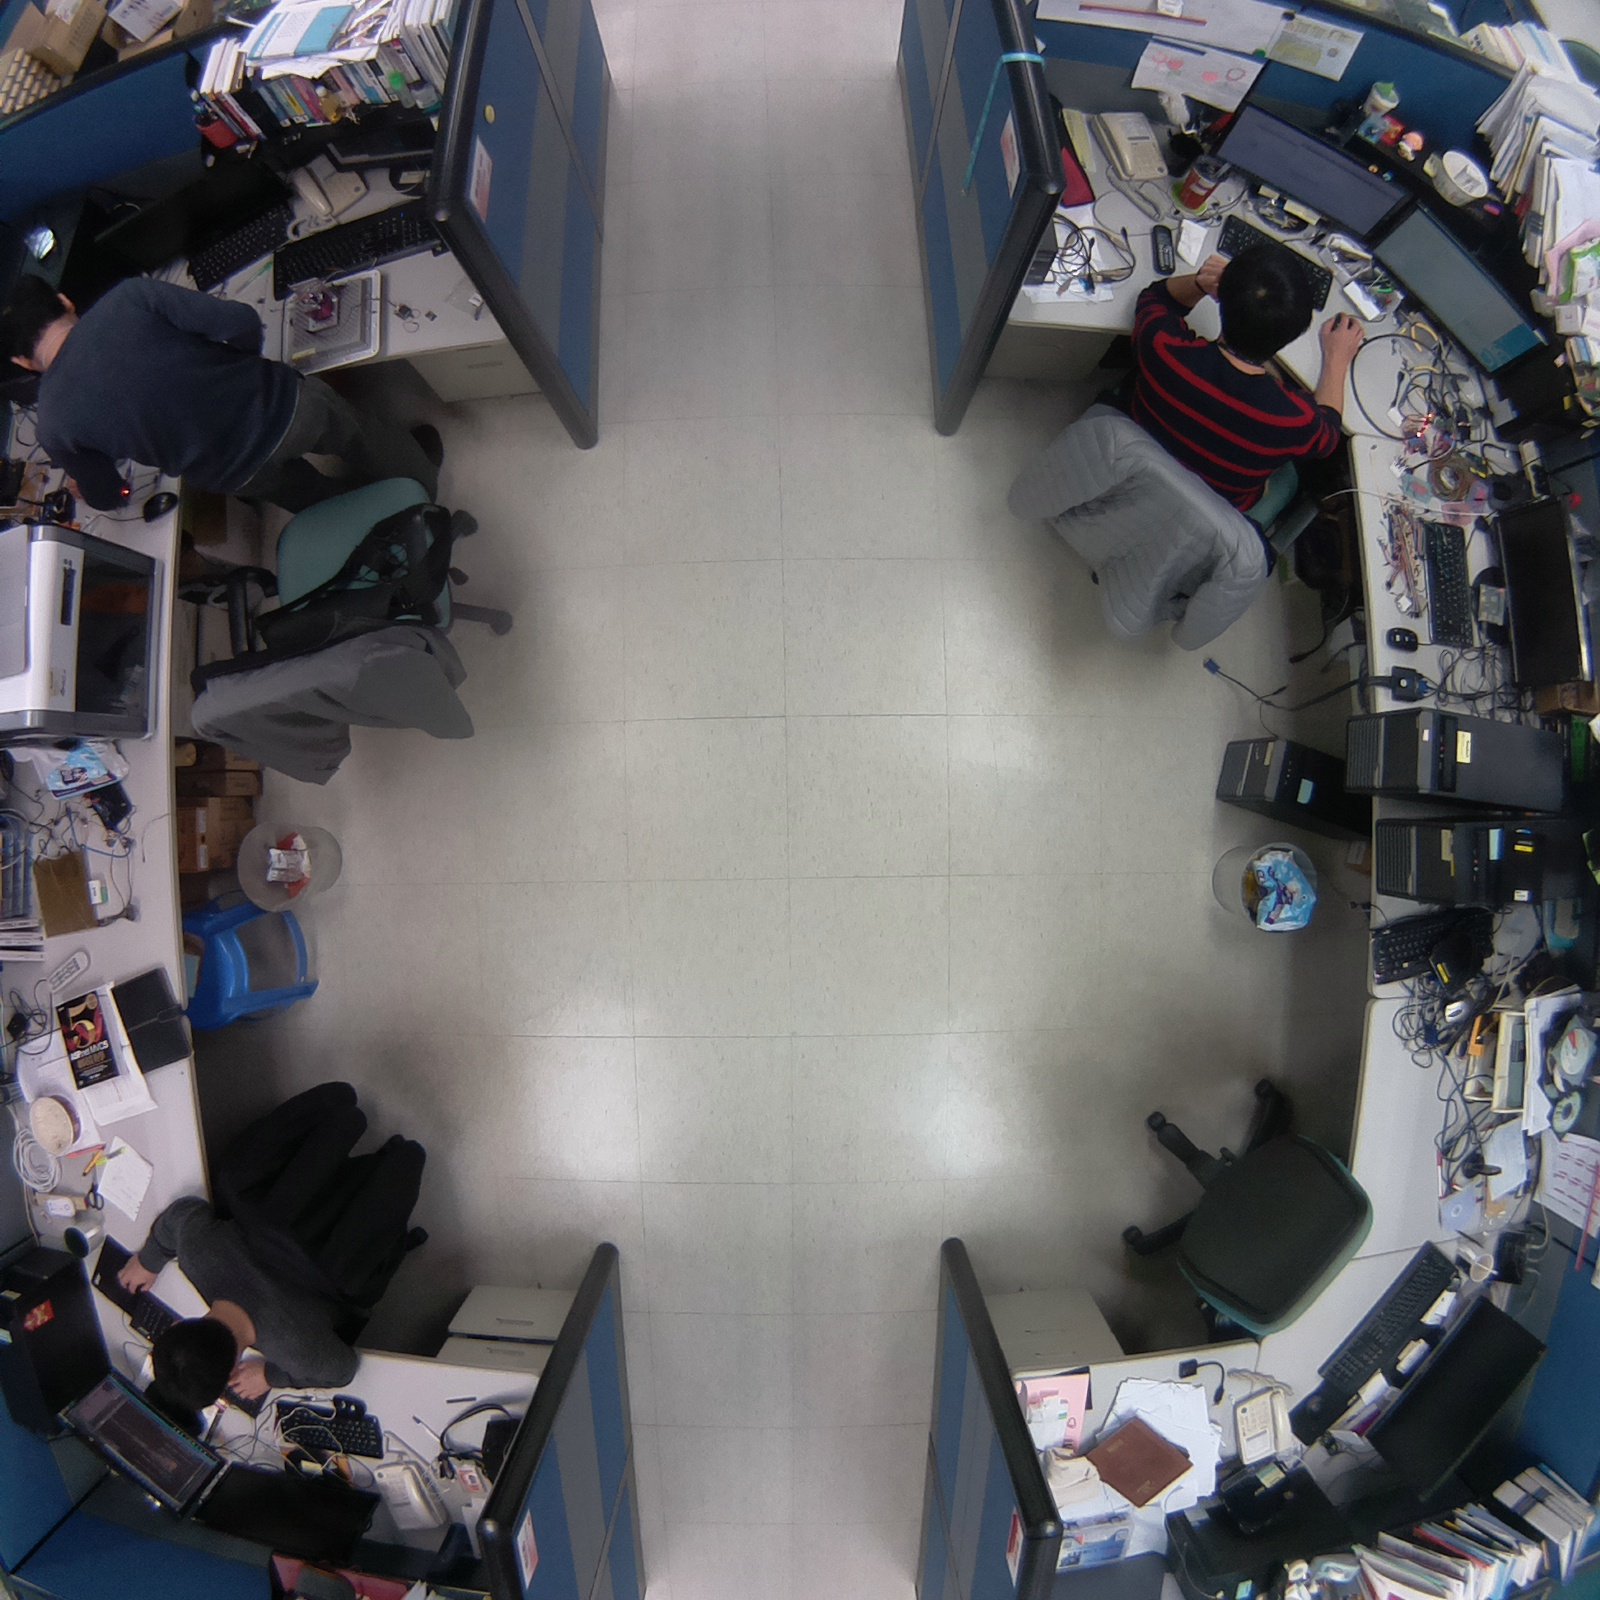chair: (170, 462, 526, 800), (1095, 1067, 1379, 1367)
sitting: (999, 229, 1382, 673), (97, 1055, 459, 1433)
standing: (1, 265, 462, 527)
